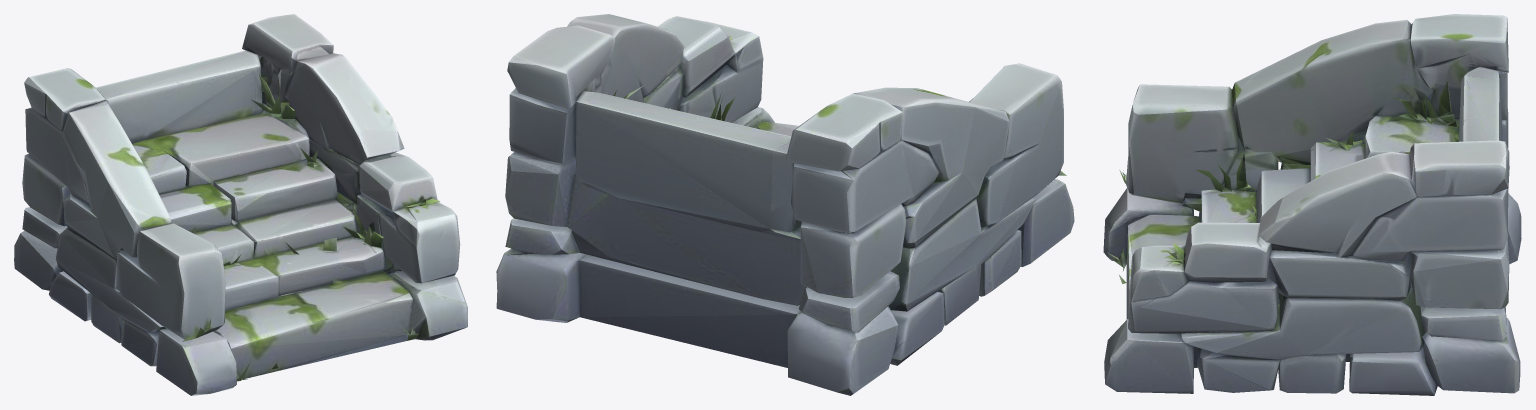
File: stairs.glb
3 views of the same model, side by side, from view 1: azimuth 30°, elevation 25°; view 2: azimuth 150°, elevation 25°; view 3: azimuth 270°, elevation 25° (orthographic). The views are drawn at different scales.
Parts seen in each view (by area): view 1: stairs; view 2: stairs; view 3: stairs.
Boxes of the visible parts, x1,y1,x2,y2 form: stairs: [14, 14, 467, 395]; stairs: [496, 14, 1074, 395]; stairs: [1103, 14, 1521, 395].
Size of the model in its own units: 2.42 by 1.6 by 2.65.
1 material, 1 textured.
